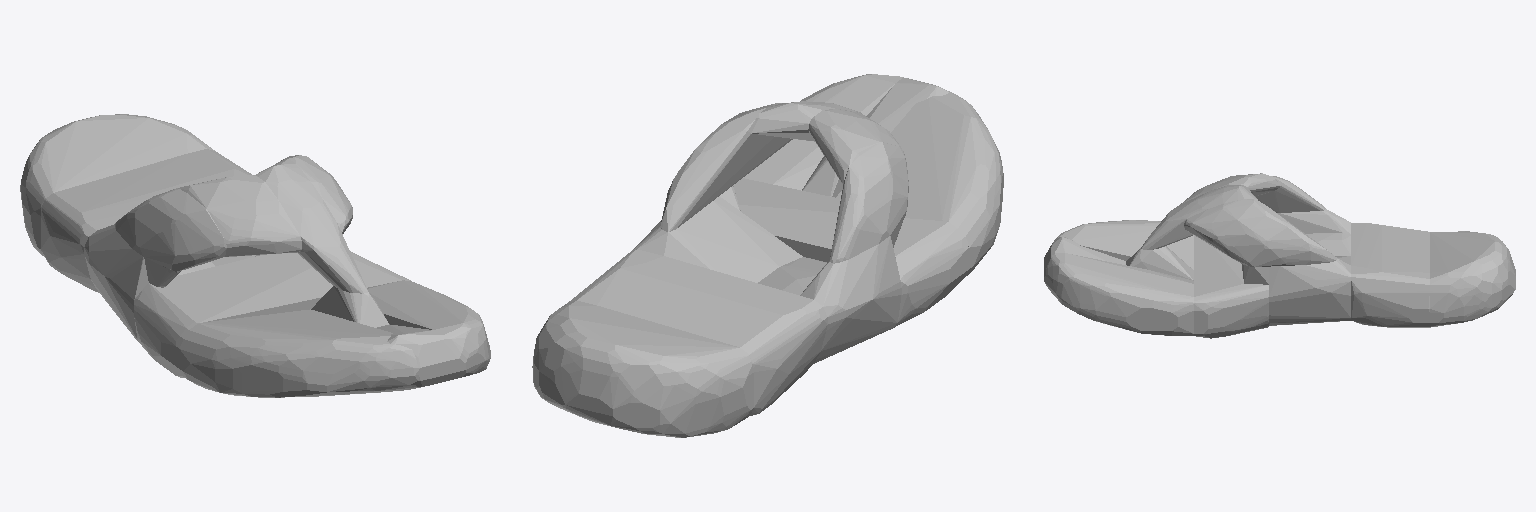
The robot description file, URDF, robot "root":
<robot name="root">
  <link name="body">
    <visual>
      <origin xyz="0 0 0" rpy="0 0 0"/>
      <geometry>
        <mesh filename="coacd_convex_piece_0.obj" scale="1.0000E+00 1.0000E+00 1.0000E+00"/>
      </geometry>
      <material name="">
        <color rgba="7.50E-01 7.50E-01 7.50E-01 1"/>
      </material>
    </visual>
    <collision>
      <origin xyz="0 0 0" rpy="0 0 0"/>
      <geometry>
        <mesh filename="coacd_convex_piece_0.obj" scale="1.0000E+00 1.0000E+00 1.0000E+00"/>
      </geometry>
    </collision>
    <visual>
      <origin xyz="0 0 0" rpy="0 0 0"/>
      <geometry>
        <mesh filename="coacd_convex_piece_1.obj" scale="1.0000E+00 1.0000E+00 1.0000E+00"/>
      </geometry>
      <material name="">
        <color rgba="7.50E-01 7.50E-01 7.50E-01 1"/>
      </material>
    </visual>
    <collision>
      <origin xyz="0 0 0" rpy="0 0 0"/>
      <geometry>
        <mesh filename="coacd_convex_piece_1.obj" scale="1.0000E+00 1.0000E+00 1.0000E+00"/>
      </geometry>
    </collision>
    <visual>
      <origin xyz="0 0 0" rpy="0 0 0"/>
      <geometry>
        <mesh filename="coacd_convex_piece_2.obj" scale="1.0000E+00 1.0000E+00 1.0000E+00"/>
      </geometry>
      <material name="">
        <color rgba="7.50E-01 7.50E-01 7.50E-01 1"/>
      </material>
    </visual>
    <collision>
      <origin xyz="0 0 0" rpy="0 0 0"/>
      <geometry>
        <mesh filename="coacd_convex_piece_2.obj" scale="1.0000E+00 1.0000E+00 1.0000E+00"/>
      </geometry>
    </collision>
    <visual>
      <origin xyz="0 0 0" rpy="0 0 0"/>
      <geometry>
        <mesh filename="coacd_convex_piece_3.obj" scale="1.0000E+00 1.0000E+00 1.0000E+00"/>
      </geometry>
      <material name="">
        <color rgba="7.50E-01 7.50E-01 7.50E-01 1"/>
      </material>
    </visual>
    <collision>
      <origin xyz="0 0 0" rpy="0 0 0"/>
      <geometry>
        <mesh filename="coacd_convex_piece_3.obj" scale="1.0000E+00 1.0000E+00 1.0000E+00"/>
      </geometry>
    </collision>
    <visual>
      <origin xyz="0 0 0" rpy="0 0 0"/>
      <geometry>
        <mesh filename="coacd_convex_piece_4.obj" scale="1.0000E+00 1.0000E+00 1.0000E+00"/>
      </geometry>
      <material name="">
        <color rgba="7.50E-01 7.50E-01 7.50E-01 1"/>
      </material>
    </visual>
    <collision>
      <origin xyz="0 0 0" rpy="0 0 0"/>
      <geometry>
        <mesh filename="coacd_convex_piece_4.obj" scale="1.0000E+00 1.0000E+00 1.0000E+00"/>
      </geometry>
    </collision>
    <visual>
      <origin xyz="0 0 0" rpy="0 0 0"/>
      <geometry>
        <mesh filename="coacd_convex_piece_5.obj" scale="1.0000E+00 1.0000E+00 1.0000E+00"/>
      </geometry>
      <material name="">
        <color rgba="7.50E-01 7.50E-01 7.50E-01 1"/>
      </material>
    </visual>
    <collision>
      <origin xyz="0 0 0" rpy="0 0 0"/>
      <geometry>
        <mesh filename="coacd_convex_piece_5.obj" scale="1.0000E+00 1.0000E+00 1.0000E+00"/>
      </geometry>
    </collision>
    <visual>
      <origin xyz="0 0 0" rpy="0 0 0"/>
      <geometry>
        <mesh filename="coacd_convex_piece_6.obj" scale="1.0000E+00 1.0000E+00 1.0000E+00"/>
      </geometry>
      <material name="">
        <color rgba="7.50E-01 7.50E-01 7.50E-01 1"/>
      </material>
    </visual>
    <collision>
      <origin xyz="0 0 0" rpy="0 0 0"/>
      <geometry>
        <mesh filename="coacd_convex_piece_6.obj" scale="1.0000E+00 1.0000E+00 1.0000E+00"/>
      </geometry>
    </collision>
    <visual>
      <origin xyz="0 0 0" rpy="0 0 0"/>
      <geometry>
        <mesh filename="coacd_convex_piece_7.obj" scale="1.0000E+00 1.0000E+00 1.0000E+00"/>
      </geometry>
      <material name="">
        <color rgba="7.50E-01 7.50E-01 7.50E-01 1"/>
      </material>
    </visual>
    <collision>
      <origin xyz="0 0 0" rpy="0 0 0"/>
      <geometry>
        <mesh filename="coacd_convex_piece_7.obj" scale="1.0000E+00 1.0000E+00 1.0000E+00"/>
      </geometry>
    </collision>
    <visual>
      <origin xyz="0 0 0" rpy="0 0 0"/>
      <geometry>
        <mesh filename="coacd_convex_piece_8.obj" scale="1.0000E+00 1.0000E+00 1.0000E+00"/>
      </geometry>
      <material name="">
        <color rgba="7.50E-01 7.50E-01 7.50E-01 1"/>
      </material>
    </visual>
    <collision>
      <origin xyz="0 0 0" rpy="0 0 0"/>
      <geometry>
        <mesh filename="coacd_convex_piece_8.obj" scale="1.0000E+00 1.0000E+00 1.0000E+00"/>
      </geometry>
    </collision>
    <visual>
      <origin xyz="0 0 0" rpy="0 0 0"/>
      <geometry>
        <mesh filename="coacd_convex_piece_9.obj" scale="1.0000E+00 1.0000E+00 1.0000E+00"/>
      </geometry>
      <material name="">
        <color rgba="7.50E-01 7.50E-01 7.50E-01 1"/>
      </material>
    </visual>
    <collision>
      <origin xyz="0 0 0" rpy="0 0 0"/>
      <geometry>
        <mesh filename="coacd_convex_piece_9.obj" scale="1.0000E+00 1.0000E+00 1.0000E+00"/>
      </geometry>
    </collision>
    <visual>
      <origin xyz="0 0 0" rpy="0 0 0"/>
      <geometry>
        <mesh filename="coacd_convex_piece_10.obj" scale="1.0000E+00 1.0000E+00 1.0000E+00"/>
      </geometry>
      <material name="">
        <color rgba="7.50E-01 7.50E-01 7.50E-01 1"/>
      </material>
    </visual>
    <collision>
      <origin xyz="0 0 0" rpy="0 0 0"/>
      <geometry>
        <mesh filename="coacd_convex_piece_10.obj" scale="1.0000E+00 1.0000E+00 1.0000E+00"/>
      </geometry>
    </collision>
    <visual>
      <origin xyz="0 0 0" rpy="0 0 0"/>
      <geometry>
        <mesh filename="coacd_convex_piece_11.obj" scale="1.0000E+00 1.0000E+00 1.0000E+00"/>
      </geometry>
      <material name="">
        <color rgba="7.50E-01 7.50E-01 7.50E-01 1"/>
      </material>
    </visual>
    <collision>
      <origin xyz="0 0 0" rpy="0 0 0"/>
      <geometry>
        <mesh filename="coacd_convex_piece_11.obj" scale="1.0000E+00 1.0000E+00 1.0000E+00"/>
      </geometry>
    </collision>
    <visual>
      <origin xyz="0 0 0" rpy="0 0 0"/>
      <geometry>
        <mesh filename="coacd_convex_piece_12.obj" scale="1.0000E+00 1.0000E+00 1.0000E+00"/>
      </geometry>
      <material name="">
        <color rgba="7.50E-01 7.50E-01 7.50E-01 1"/>
      </material>
    </visual>
    <collision>
      <origin xyz="0 0 0" rpy="0 0 0"/>
      <geometry>
        <mesh filename="coacd_convex_piece_12.obj" scale="1.0000E+00 1.0000E+00 1.0000E+00"/>
      </geometry>
    </collision>
    <visual>
      <origin xyz="0 0 0" rpy="0 0 0"/>
      <geometry>
        <mesh filename="coacd_convex_piece_13.obj" scale="1.0000E+00 1.0000E+00 1.0000E+00"/>
      </geometry>
      <material name="">
        <color rgba="7.50E-01 7.50E-01 7.50E-01 1"/>
      </material>
    </visual>
    <collision>
      <origin xyz="0 0 0" rpy="0 0 0"/>
      <geometry>
        <mesh filename="coacd_convex_piece_13.obj" scale="1.0000E+00 1.0000E+00 1.0000E+00"/>
      </geometry>
    </collision>
    <visual>
      <origin xyz="0 0 0" rpy="0 0 0"/>
      <geometry>
        <mesh filename="coacd_convex_piece_14.obj" scale="1.0000E+00 1.0000E+00 1.0000E+00"/>
      </geometry>
      <material name="">
        <color rgba="7.50E-01 7.50E-01 7.50E-01 1"/>
      </material>
    </visual>
    <collision>
      <origin xyz="0 0 0" rpy="0 0 0"/>
      <geometry>
        <mesh filename="coacd_convex_piece_14.obj" scale="1.0000E+00 1.0000E+00 1.0000E+00"/>
      </geometry>
    </collision>
    <visual>
      <origin xyz="0 0 0" rpy="0 0 0"/>
      <geometry>
        <mesh filename="coacd_convex_piece_15.obj" scale="1.0000E+00 1.0000E+00 1.0000E+00"/>
      </geometry>
      <material name="">
        <color rgba="7.50E-01 7.50E-01 7.50E-01 1"/>
      </material>
    </visual>
    <collision>
      <origin xyz="0 0 0" rpy="0 0 0"/>
      <geometry>
        <mesh filename="coacd_convex_piece_15.obj" scale="1.0000E+00 1.0000E+00 1.0000E+00"/>
      </geometry>
    </collision>
    <visual>
      <origin xyz="0 0 0" rpy="0 0 0"/>
      <geometry>
        <mesh filename="coacd_convex_piece_16.obj" scale="1.0000E+00 1.0000E+00 1.0000E+00"/>
      </geometry>
      <material name="">
        <color rgba="7.50E-01 7.50E-01 7.50E-01 1"/>
      </material>
    </visual>
    <collision>
      <origin xyz="0 0 0" rpy="0 0 0"/>
      <geometry>
        <mesh filename="coacd_convex_piece_16.obj" scale="1.0000E+00 1.0000E+00 1.0000E+00"/>
      </geometry>
    </collision>
  </link>
</robot>

--- Render facts (derived) ---
3 views of the same robot in one strip: view 1: azimuth 30°, elevation 25°; view 2: azimuth 150°, elevation 25°; view 3: azimuth 270°, elevation 25° (orthographic).
Model root with 1 links and 0 joints (none), rooted at body, posed all joints at 0.
Links seen in each view (by area): view 1: body; view 2: body; view 3: body.
Boxes of the visible links, x1=… form: body: x1=20, y1=114, x2=490, y2=397; body: x1=532, y1=74, x2=1003, y2=437; body: x1=1044, y1=173, x2=1515, y2=338.
Size in the robot's own frame: 0.7978 by 1.93 by 0.5459 metres.
17 mesh visuals loaded from 17 distinct referenced files (17 OBJ).
